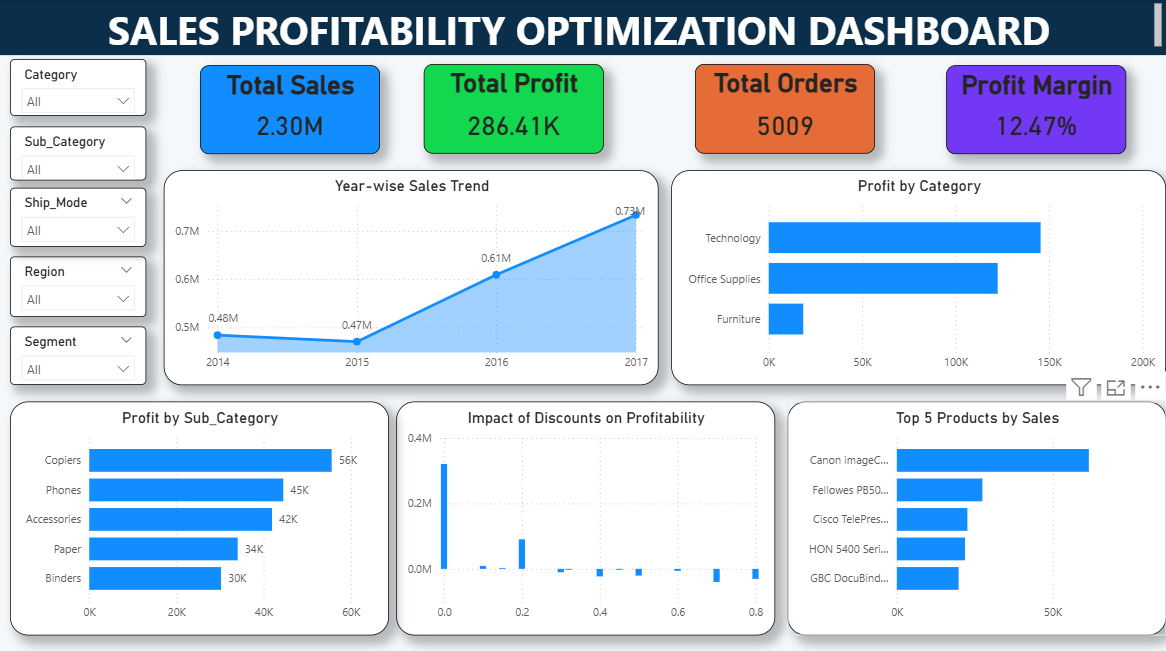

The page's visual inventory and layout, read from the dashboard file:
{"tool":"powerbi","page":{"name":"Executive Summary","canvas":[1280,720],"ordinal":0},"visuals":[{"type":"lineChart","title":"Year-wise Sales Trend","fields":{"Category":["Superstore_Cleaned.Order_Date.Variation.Date Hierarchy.Year","Superstore_Cleaned.Order_Date.Variation.Date Hierarchy.Quarter","Superstore_Cleaned.Order_Date.Variation.Date Hierarchy.Month","Superstore_Cleaned.Order_Date.Variation.Date Hierarchy.Day"],"Y":["Superstore_Cleaned.Total Sales"]},"box":[434.3,188.2,416.2,224.4],"z":0},{"type":"barChart","title":"Profit by Category","fields":{"Category":["Superstore_Cleaned.Category"],"Y":["Superstore_Cleaned.Total Profit"]},"box":[863.8,188.2,416.2,224.4],"z":1000},{"type":"textbox","box":[0,0,1280,61.5],"z":2000},{"type":"columnChart","title":"Impact of Discounts on Profitability","fields":{"Category":["Superstore_Cleaned.Discount"],"Y":["Sum(Superstore_Cleaned.Profit)"]},"box":[434.3,425.9,416.2,224.4],"z":3000},{"type":"barChart","title":"Top 5 Products by Sales","fields":{"Category":["Superstore_Cleaned.Product_Name"],"Y":["Superstore_Cleaned.Total Sales"]},"box":[863.8,425.9,416.2,224.4],"z":4000},{"type":"barChart","title":"Profit by Sub_Category","fields":{"Category":["Superstore_Cleaned.Sub_Category"],"Y":["Superstore_Cleaned.Total Profit"]},"box":[0,425.9,416.2,224.4],"z":5000},{"type":"slicer","fields":{"Values":["Superstore_Cleaned.Region"]},"box":[10.9,282.3,149.6,66.4],"z":6000},{"type":"slicer","fields":{"Values":["Superstore_Cleaned.Category"]},"box":[10.9,66.4,149.6,62.7],"z":7000},{"type":"slicer","fields":{"Values":["Superstore_Cleaned.Sub_Category"]},"box":[10.9,139.9,149.6,59.1],"z":8000},{"type":"slicer","fields":{"Values":["Superstore_Cleaned.Segment"]},"box":[10.9,359.5,149.6,63.9],"z":9000},{"type":"slicer","fields":{"Values":["Superstore_Cleaned.Ship_Mode"]},"box":[10.9,207.5,149.6,65.1],"z":10000},{"type":"card","title":"Total Sales","fields":{"Values":["Superstore_Cleaned.Total Sales"]},"box":[434.3,74.8,197.9,97.7],"z":11000},{"type":"card","title":"Total Profit","fields":{"Values":["Superstore_Cleaned.Total Profit"]},"box":[651.5,73.6,197.9,98.9],"z":12000},{"type":"card","title":"Total Orders","fields":{"Values":["Superstore_Cleaned.Total Orders"]},"box":[863.8,73.6,197.9,98.9],"z":13000},{"type":"card","title":"Profit Margin","fields":{"Values":["Superstore_Cleaned.Profit Margin %"]},"box":[1082.2,74.8,197.9,97.7],"z":14000},{"type":"textbox","box":[0,650.3,1280,56.7],"z":15000}]}

Visuals, with their boxes in screenshot pixels (x1, y1, x2, y2), scaled from the page's 1280x720 canvas onto the 1166x651 screenshot:
"Year-wise Sales Trend" lineChart: <region>396, 170, 775, 373</region>
"Profit by Category" barChart: <region>787, 170, 1165, 373</region>
textbox: <region>0, 0, 1165, 56</region>
"Impact of Discounts on Profitability" columnChart: <region>396, 385, 775, 588</region>
"Top 5 Products by Sales" barChart: <region>787, 385, 1165, 588</region>
"Profit by Sub_Category" barChart: <region>0, 385, 379, 588</region>
slicer - Superstore_Cleaned.Region: <region>10, 255, 146, 315</region>
slicer - Superstore_Cleaned.Category: <region>10, 60, 146, 117</region>
slicer - Superstore_Cleaned.Sub_Category: <region>10, 126, 146, 180</region>
slicer - Superstore_Cleaned.Segment: <region>10, 325, 146, 383</region>
slicer - Superstore_Cleaned.Ship_Mode: <region>10, 188, 146, 246</region>
"Total Sales" card: <region>396, 68, 576, 156</region>
"Total Profit" card: <region>593, 67, 774, 156</region>
"Total Orders" card: <region>787, 67, 967, 156</region>
"Profit Margin" card: <region>986, 68, 1165, 156</region>
textbox: <region>0, 588, 1165, 639</region>
